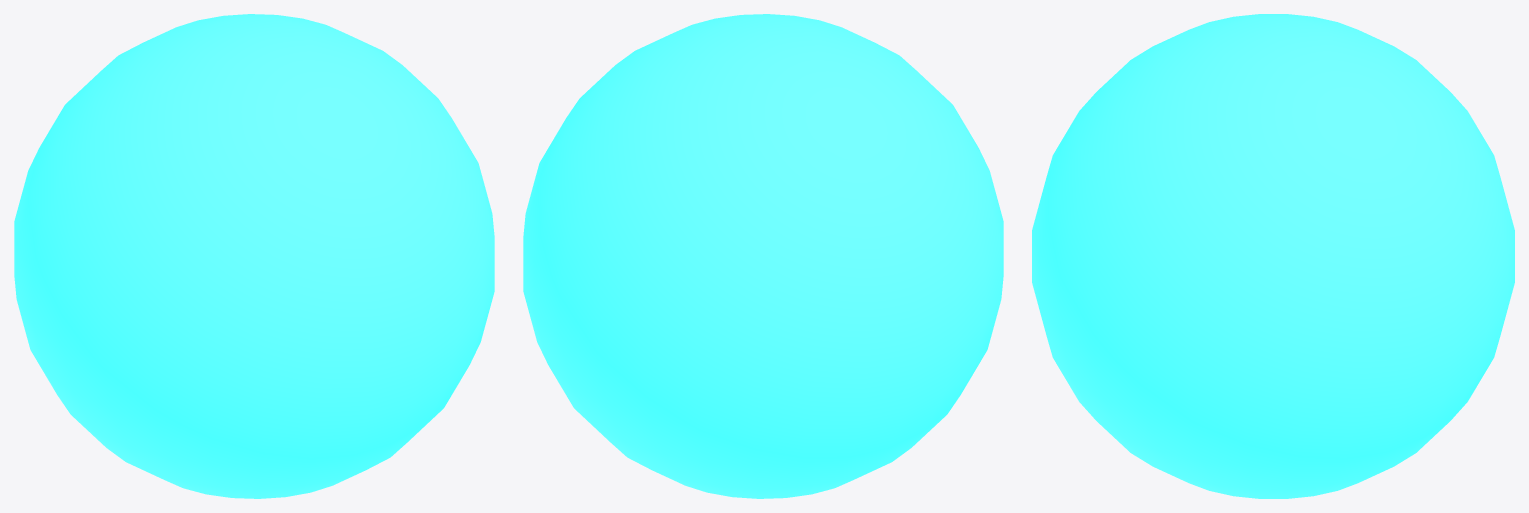
The model's file is explosion.fbx.
3 renders of one model, left to right at view 1: azimuth 30°, elevation 25°; view 2: azimuth 150°, elevation 25°; view 3: azimuth 270°, elevation 25°, orthographic.
Visible parts, largest first — view 1: Sphere001; view 2: Sphere001; view 3: Sphere001.
Part boxes in pixels (x1,y1,x2,y2): Sphere001: [14, 14, 494, 498]; Sphere001: [523, 14, 1003, 498]; Sphere001: [1032, 14, 1514, 498].
Bounding box in the file's own units: 303 × 307 × 305.
